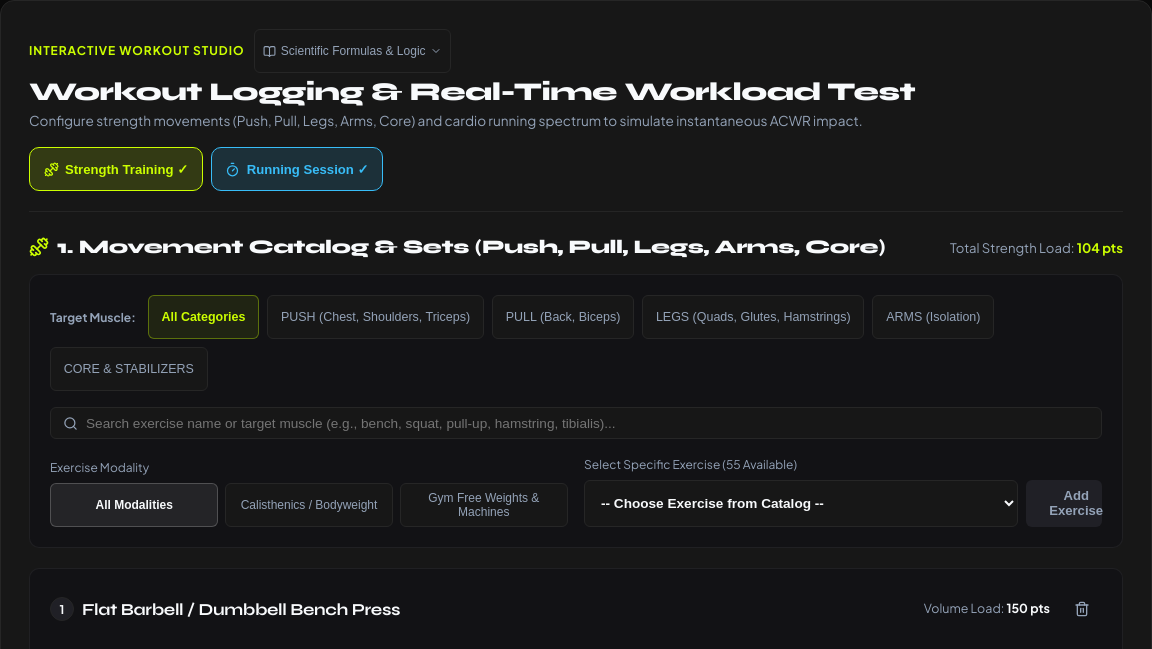
Scenario: WorkoutLogger Component - Unit & Interaction Tests › adds an exercise from catalog dropdown when selected and button clicked
Select an exercise option by valid catalog ID
Select "[PUSH] Standard Push-Up (Bodyweight)" in the dropdown showing "Choose Exercise from Catalog" below "Select Specific Exercise (" at (801, 503), box [584,480,1018,527]
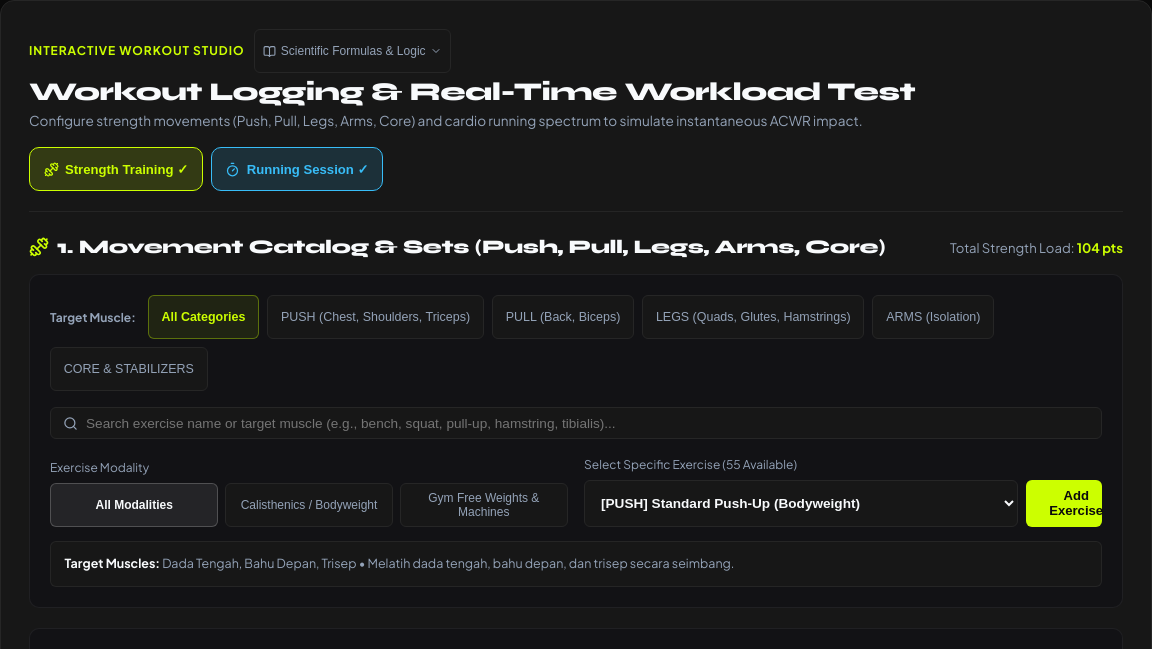
Result: the button "Add Exercise" is enabled
Click the button "Add Exercise" at (1064, 503), box [1026,480,1102,527]
(page scrolled)
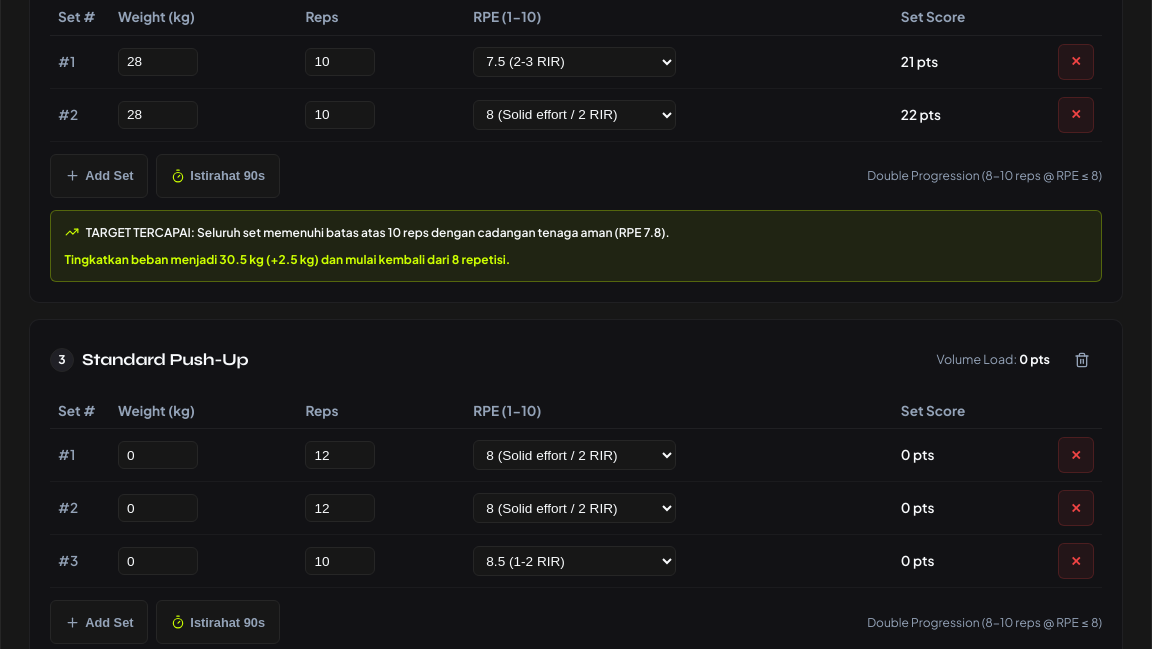
Result: the heading "Standard Push-Up" is shown at [82,350,248,370]
